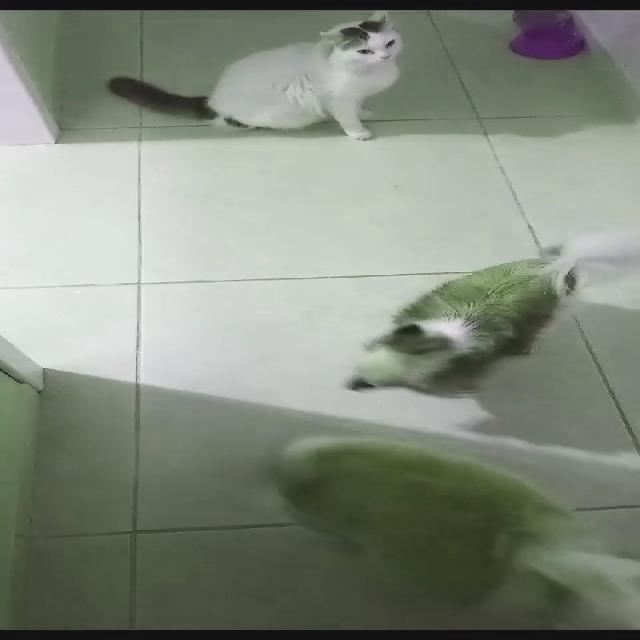Pedrita: (361, 250, 639, 412)
Theo: (243, 413, 639, 640)
